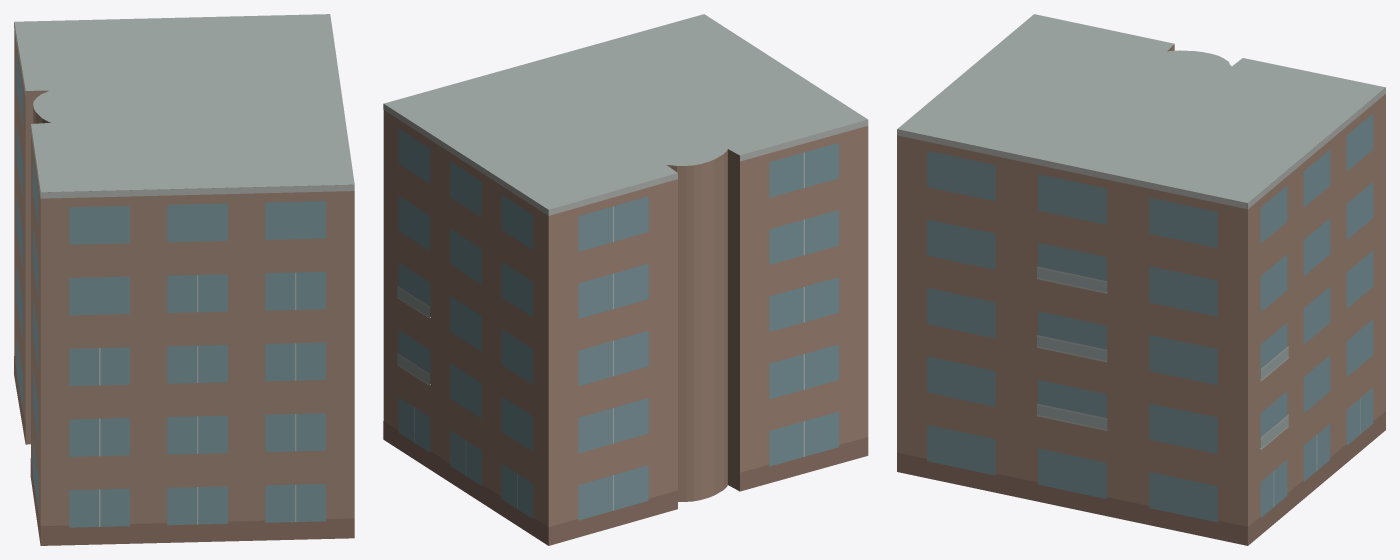
Rendered from survey-upis-32889155.glb.
The picture shows the model from 3 angles, left to right: view 1: azimuth 30°, elevation 25°; view 2: azimuth 150°, elevation 25°; view 3: azimuth 270°, elevation 25°; orthographic projection. The views are drawn at different scales.
Visible parts, largest first — view 1: survey-upis-32889155.tmp; view 2: survey-upis-32889155.tmp; view 3: survey-upis-32889155.tmp.
Part boxes in pixels (x1=…): survey-upis-32889155.tmp: x1=14, y1=14, x2=354, y2=545; survey-upis-32889155.tmp: x1=383, y1=14, x2=868, y2=545; survey-upis-32889155.tmp: x1=897, y1=14, x2=1385, y2=545.
Bounding box in the file's own units: 15.99 × 13.5 × 17.46.
